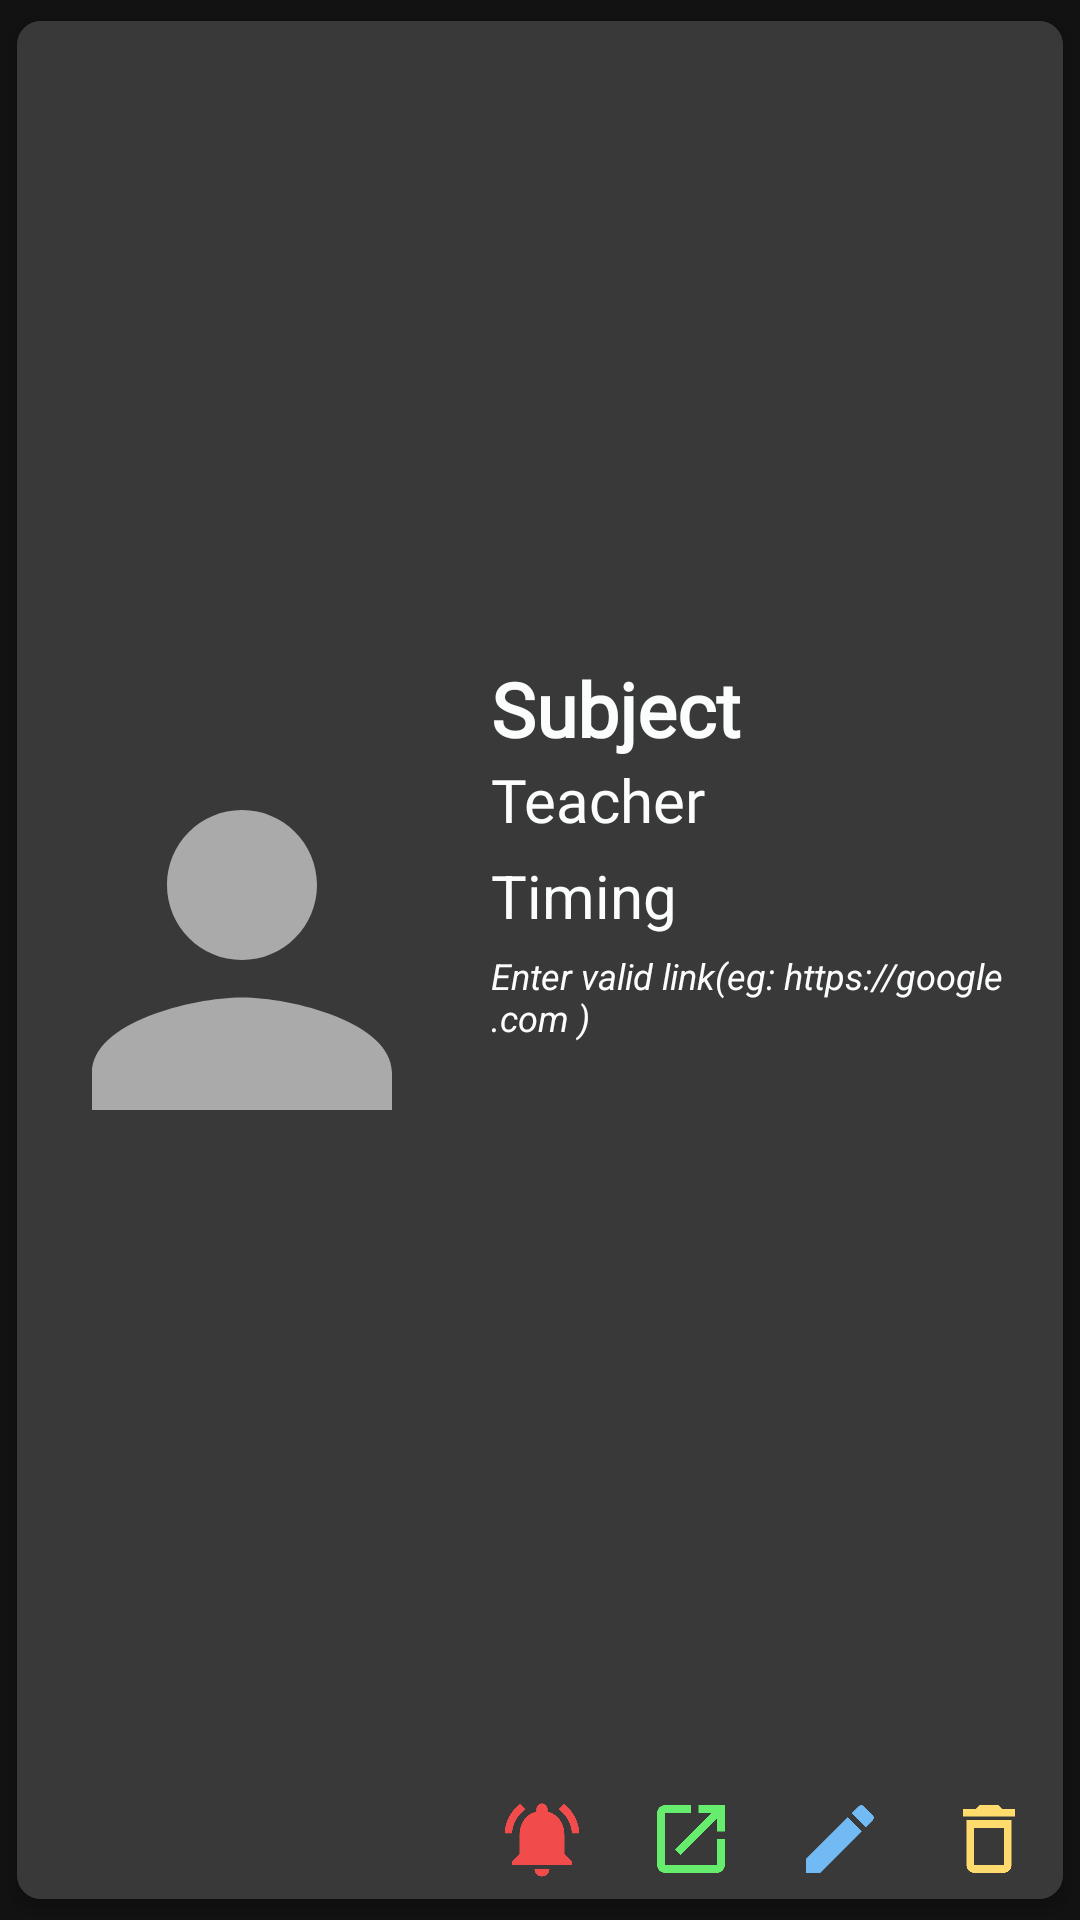

Screen size 1080x1920. Icon name, then its center in pixels as point (x, y):
delete: point (989, 1839)
edit: point (840, 1839)
launch: point (691, 1839)
notifications: point (542, 1840)
